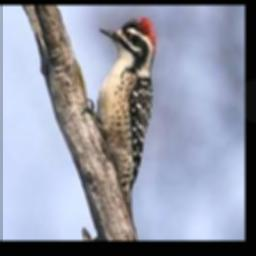Woodpecker: (82, 17, 158, 217)
